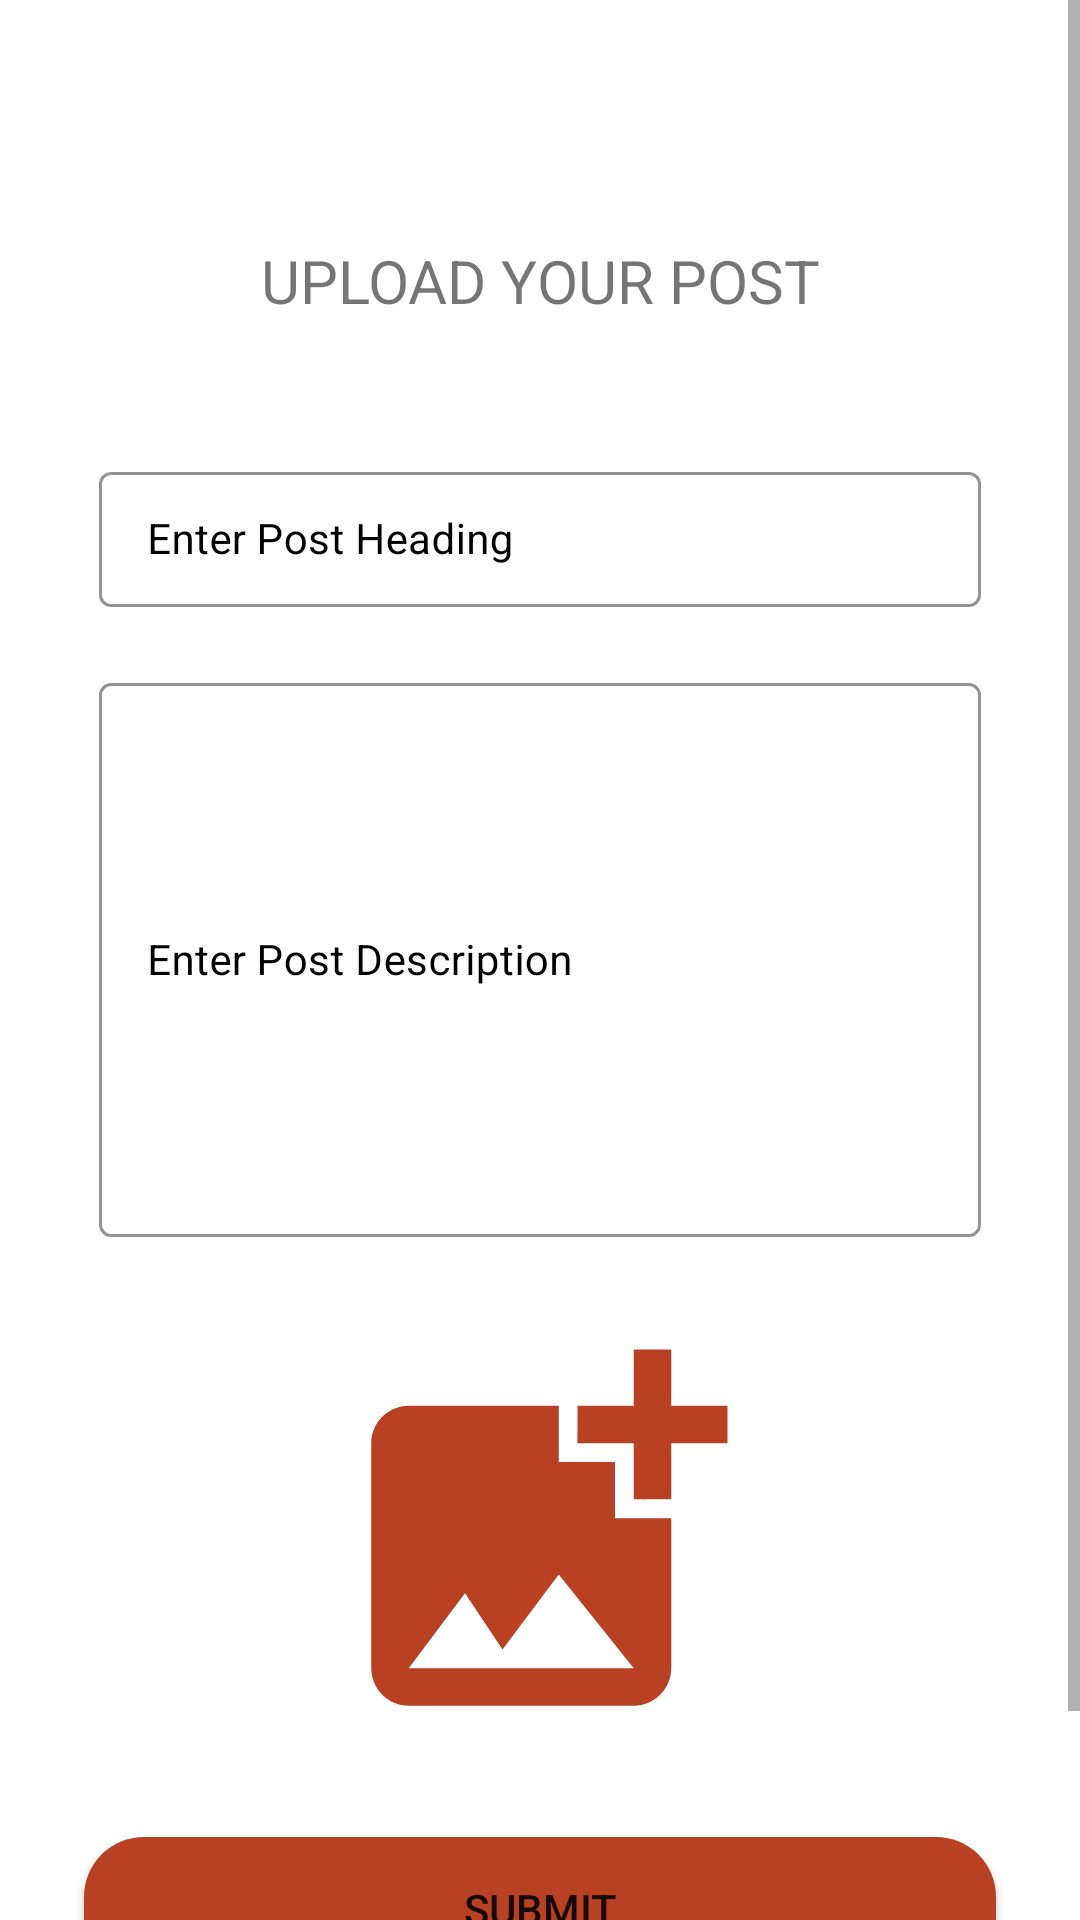

Named icons in this screenshot (1080x1920) and their bounding boxes, (x1, y1, x2, y2):
add photo alternate: (371, 1349, 728, 1706)
